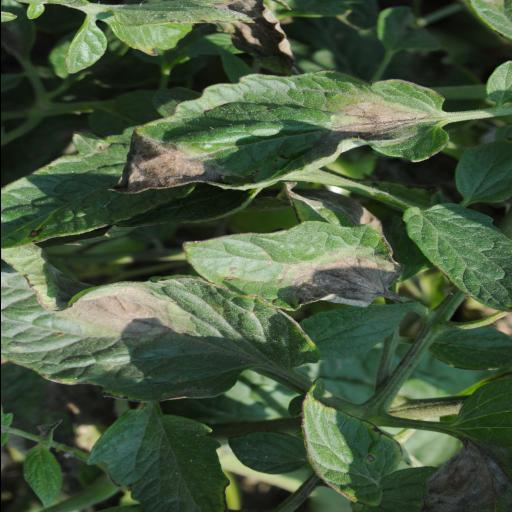disease_tomato: (102, 65, 452, 197), (0, 276, 321, 408), (176, 216, 404, 310)
